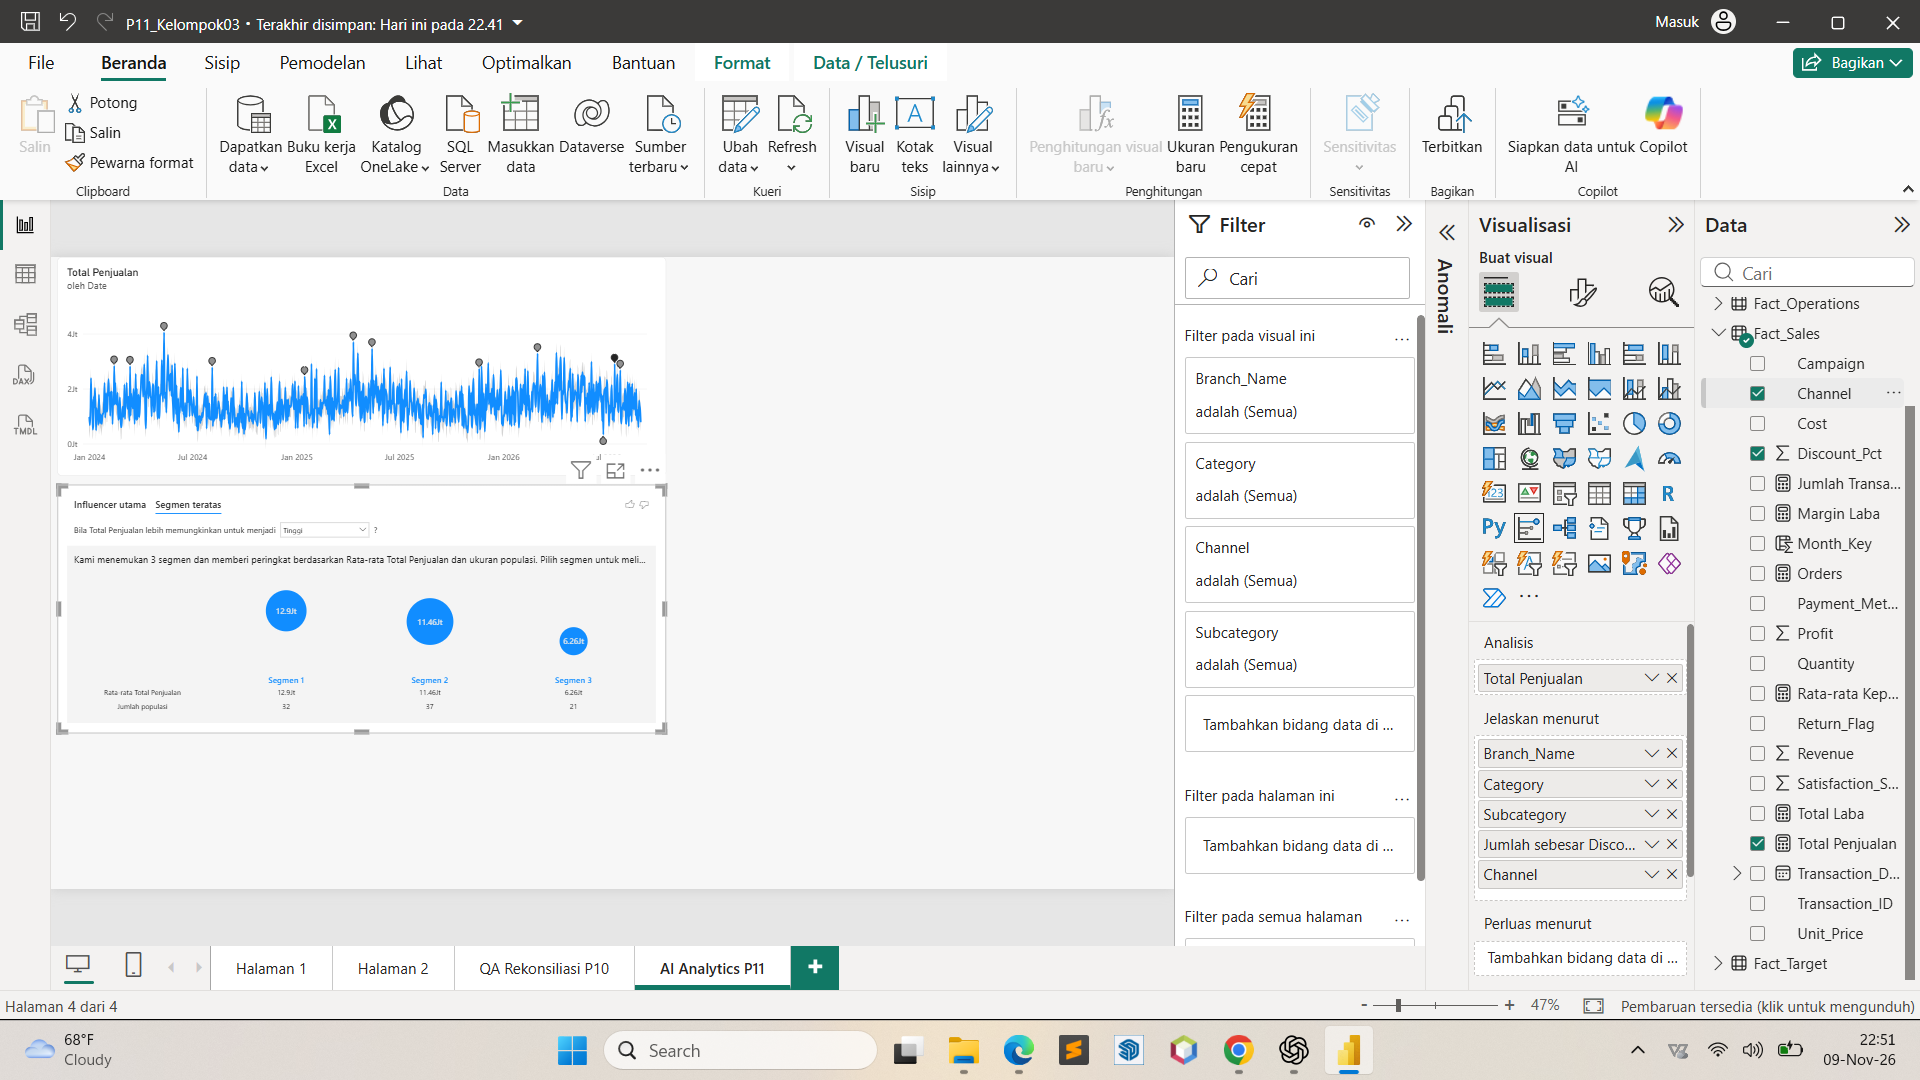

This screenshot's page, from the dashboard's own definition file:
{"tool":"powerbi","page":{"name":"AI Analytics P11","canvas":[1920,1080],"ordinal":3},"visuals":[{"type":"lineChart","fields":{"Category":["Dim Date.Date"],"Y":["Fact_Sales.Total Penjualan"]},"box":[10.7,0,840.3,301.5],"z":0},{"type":"keyDriversVisual","fields":{"ExplainBy":["Dim_Branch.Branch_Name","Dim_Product.Category","Dim_Product.Subcategory","Sum(Fact_Sales.Discount_Pct)","Fact_Sales.Channel"],"Target":["Fact_Sales.Return_Flag"]},"box":[5.9,329.4,819.6,382.4],"z":1000},{"type":"decompositionTreeVisual","fields":{"Analyze":["Fact_Sales.Total Laba"],"ExplainBy":["Dim_Branch.Branch_Name","Dim_Product.Category","Fact_Sales.Campaign"]},"box":[9.8,727.5,815.7,352.9],"z":2000},{"type":"pivotTable","fields":{"Rows":["Dim_Branch.Branch_Name","Dim_Product.Category","Fact_Sales.Campaign"],"Values":["Fact_Sales.Total Laba"]},"box":[960.8,0,786.3,288.2],"z":2001},{"type":"cardVisual","fields":{"Data":["Fact_Sales.Return Rate"]},"box":[945.1,329.4,272.5,274.5],"z":2002}]}

Visuals, with their boxes on the page's 1920x1080 design canvas (x1, y1, x2, y2). These are canvas units, not pixel positions in the 1920x1080 screenshot, which may show the page scaled, cropped or inside an application window:
lineChart - Dim Date.Date x Fact_Sales.Total Penjualan: bbox=[11, 0, 851, 302]
keyDriversVisual - Dim_Branch.Branch_Name x Dim_Product.Category: bbox=[6, 329, 826, 712]
decompositionTreeVisual - Fact_Sales.Total Laba x Dim_Branch.Branch_Name: bbox=[10, 728, 826, 1080]
pivotTable - Dim_Branch.Branch_Name x Dim_Product.Category: bbox=[961, 0, 1747, 288]
cardVisual - Fact_Sales.Return Rate: bbox=[945, 329, 1218, 604]
